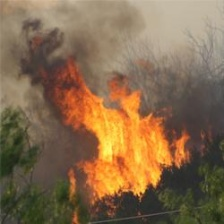fire: (58, 85, 190, 209)
smoke: (1, 3, 142, 79)
